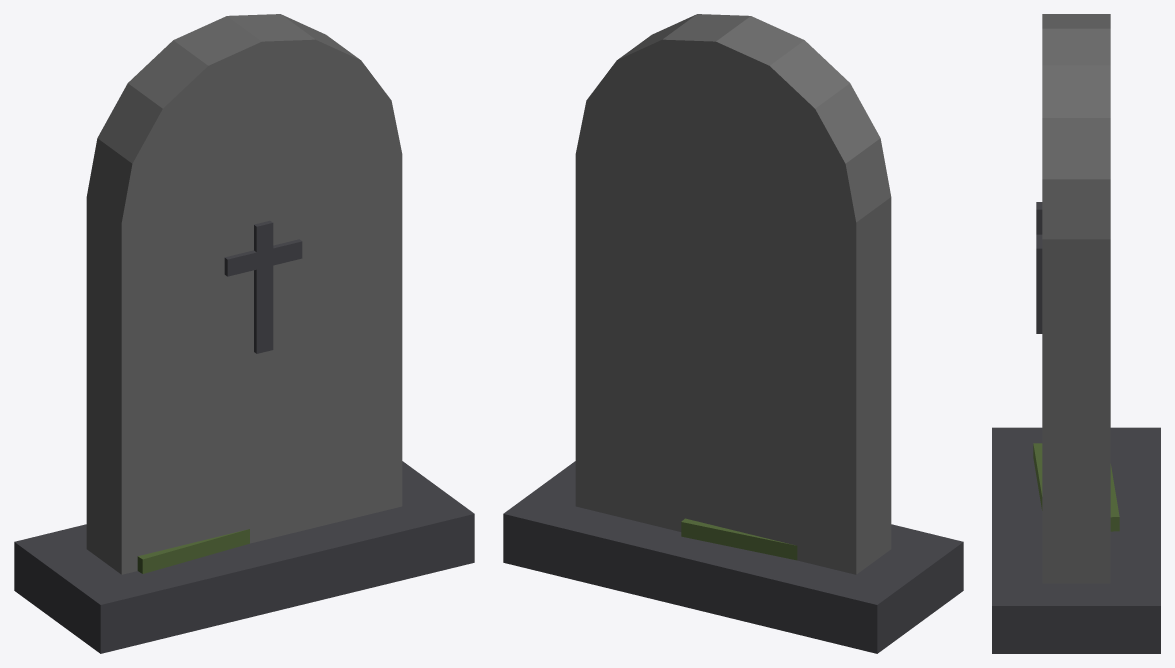
File: SM_Tombstone_Round.glb
3 renders of one model, left to right at view 1: azimuth 30°, elevation 25°; view 2: azimuth 150°, elevation 25°; view 3: azimuth 270°, elevation 25°, orthographic. The views are drawn at different scales.
Parts seen in each view (by area): view 1: SM_Tombstone_Round; view 2: SM_Tombstone_Round; view 3: SM_Tombstone_Round.
Part boxes in pixels (x1,y1,x2,y2): SM_Tombstone_Round: (14, 14, 474, 653); SM_Tombstone_Round: (503, 14, 963, 653); SM_Tombstone_Round: (992, 14, 1160, 653).
Size of the model in its own units: 0.8 by 1.12 by 0.32.
Materials: 1 (1 with a texture image).
